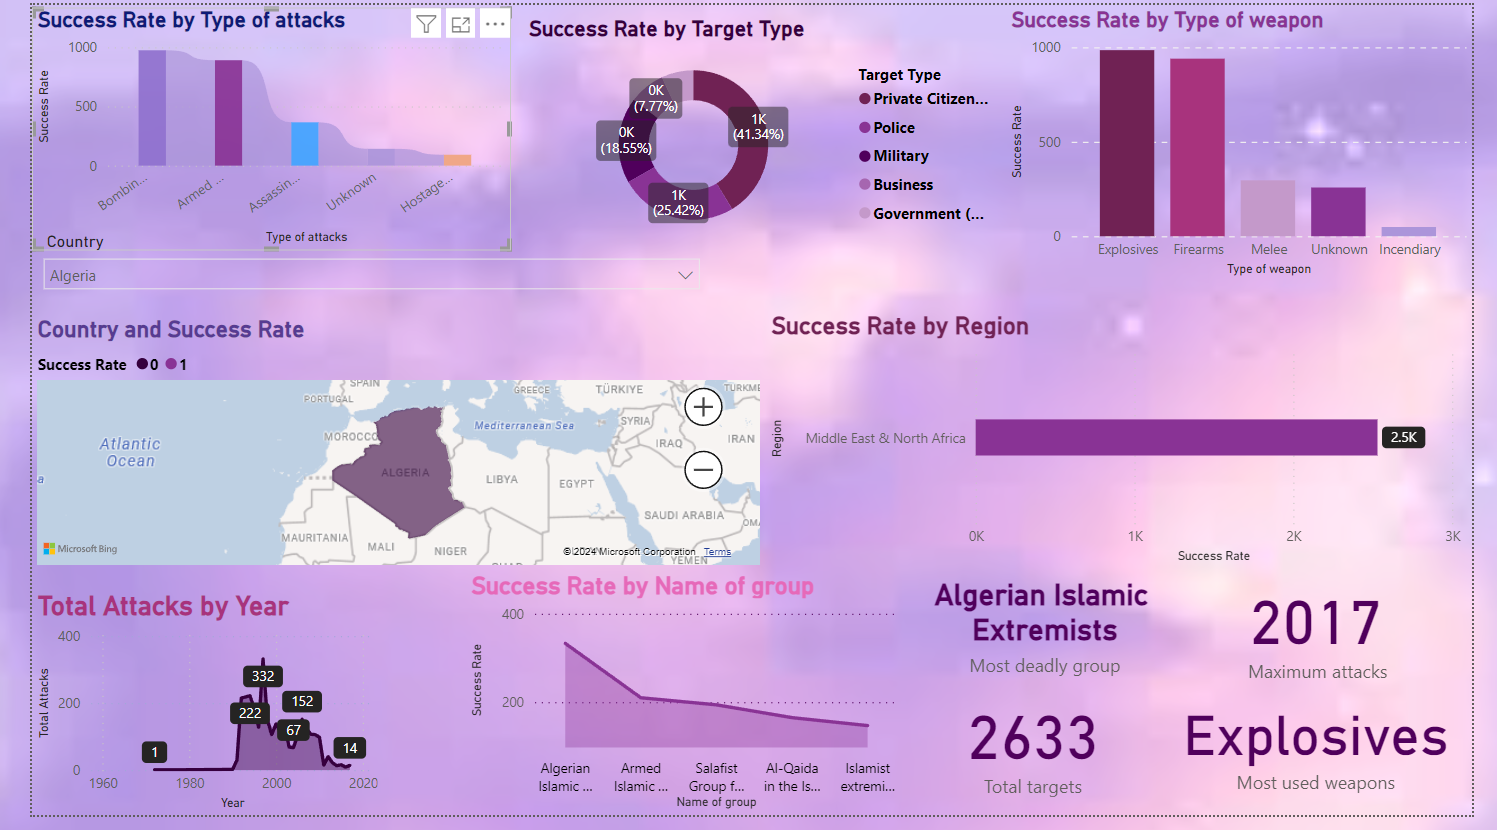

This screenshot's page, from the dashboard's own definition file:
{"tool":"powerbi","page":{"name":"Page 1","canvas":[1280,720],"ordinal":0},"visuals":[{"type":"ribbonChart","fields":{"Category":["Global terrorism final data set.Type of attacks"],"Y":["Sum(Global terrorism final data set.Success Rate)"]},"box":[0,2.2,425.6,215.6],"z":0},{"type":"donutChart","fields":{"Category":["Global terrorism final data set.Target Type"],"Y":["Sum(Global terrorism final data set.Success Rate)"]},"box":[436.7,10,428.9,207.8],"z":1000},{"type":"lineStackedColumnComboChart","fields":{"Category":["Global terrorism final data set.Type of weapon"],"Y":["Sum(Global terrorism final data set.Success Rate)"]},"box":[865.6,2.2,414.4,243.3],"z":2000},{"type":"filledMap","fields":{"Category":["Global terrorism final data set.Country"],"Series":["Global terrorism final data set.Success Rate"]},"box":[0,275.8,651.6,227.1],"z":3000},{"type":"barChart","fields":{"Category":["Global terrorism final data set.Region"],"Y":["Sum(Global terrorism final data set.Success Rate)"]},"box":[651.7,271.7,628.3,228.3],"z":4000},{"type":"areaChart","fields":{"Category":["Global terrorism final data set.Name of group"],"Y":["Sum(Global terrorism final data set.Success Rate)"]},"box":[385,503.3,393.3,216.7],"z":5000},{"type":"areaChart","fields":{"Category":["Global terrorism final data set.Year"],"Y":["CountNonNull(Global terrorism final data set.Year)"]},"box":[0,520.5,312.3,200.1],"z":6000},{"type":"slicer","fields":{"Values":["Global terrorism final data set.Country"]},"box":[0,196.7,603.3,75],"z":7000},{"type":"card","fields":{"Values":["Min(Global terrorism final data set.Name of group)"]},"box":[787.2,476.7,227.9,144.2],"z":8000},{"type":"card","fields":{"Values":["CountNonNull(Global terrorism final data set.Target Type)"]},"box":[786.7,601.7,206.7,106.7],"z":9000},{"type":"card","fields":{"Values":["Max(Global terrorism final data set.Year)"]},"box":[1046.7,503.3,188.3,100],"z":10000},{"type":"card","fields":{"Values":["Min(Global terrorism final data set.Type of weapon)"]},"box":[1001.7,588.3,278.3,131.7],"z":11000}]}

Visuals, with their boxes in screenshot pixels (x1, y1, x2, y2), scaled from the page's 1280x720 canvas onto the 1497x830 screenshot:
ribbonChart - Global terrorism final data set.Type of attacks x Sum(Global terrorism final data set.Success Rate): rect(0, 3, 498, 251)
donutChart - Global terrorism final data set.Target Type x Sum(Global terrorism final data set.Success Rate): rect(511, 12, 1012, 251)
lineStackedColumnComboChart - Global terrorism final data set.Type of weapon x Sum(Global terrorism final data set.Success Rate): rect(1012, 3, 1496, 283)
filledMap - Global terrorism final data set.Country x Global terrorism final data set.Success Rate: rect(0, 318, 762, 580)
barChart - Global terrorism final data set.Region x Sum(Global terrorism final data set.Success Rate): rect(762, 313, 1496, 576)
areaChart - Global terrorism final data set.Name of group x Sum(Global terrorism final data set.Success Rate): rect(450, 580, 910, 829)
areaChart - Global terrorism final data set.Year x CountNonNull(Global terrorism final data set.Year): rect(0, 600, 365, 829)
slicer - Global terrorism final data set.Country: rect(0, 227, 706, 313)
card - Min(Global terrorism final data set.Name of group): rect(921, 550, 1187, 716)
card - CountNonNull(Global terrorism final data set.Target Type): rect(920, 694, 1162, 817)
card - Max(Global terrorism final data set.Year): rect(1224, 580, 1444, 695)
card - Min(Global terrorism final data set.Type of weapon): rect(1172, 678, 1496, 829)
